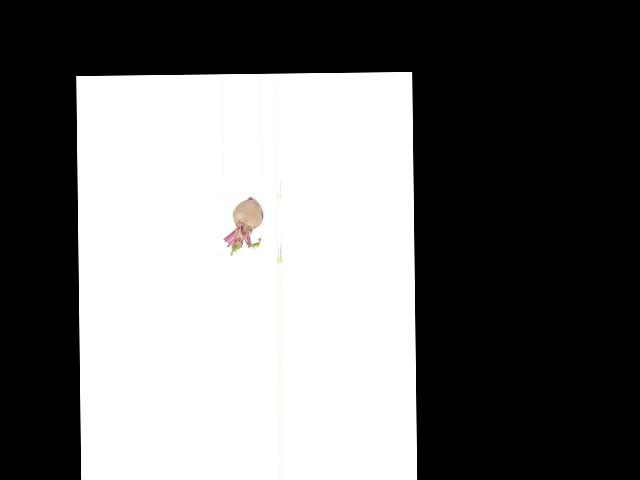beet: (223, 196, 262, 255)
